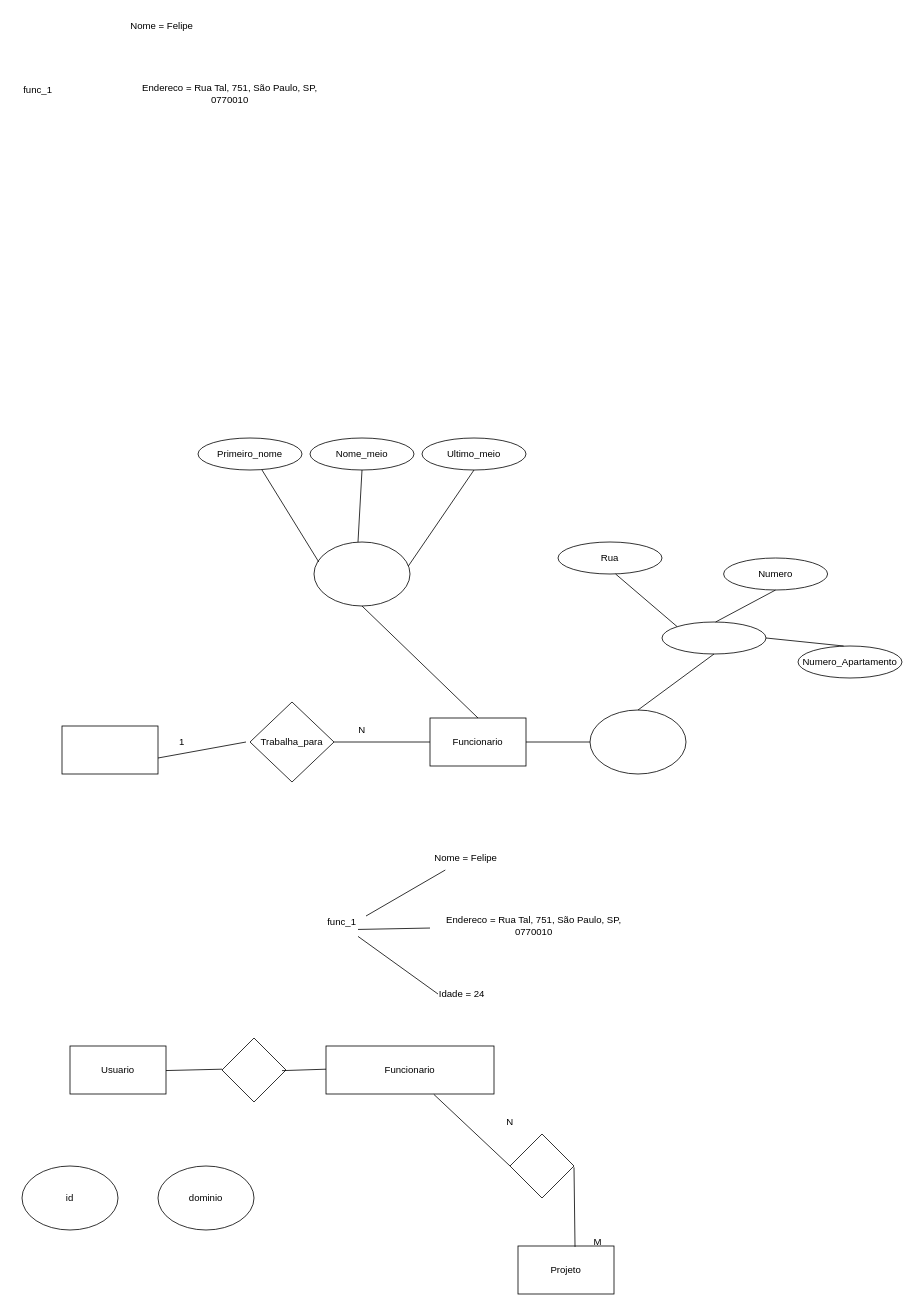
The diagram is 916 pixels wide and 1308 high, and some of its shapes have lost their labels. The centre of each missing label's shape, as x and y in pixels:
"Departamento" goes at [109,749].
"Endereco" goes at [637,741].
"Logradouro" goes at [713,637].
"Nome" goes at [361,573].
